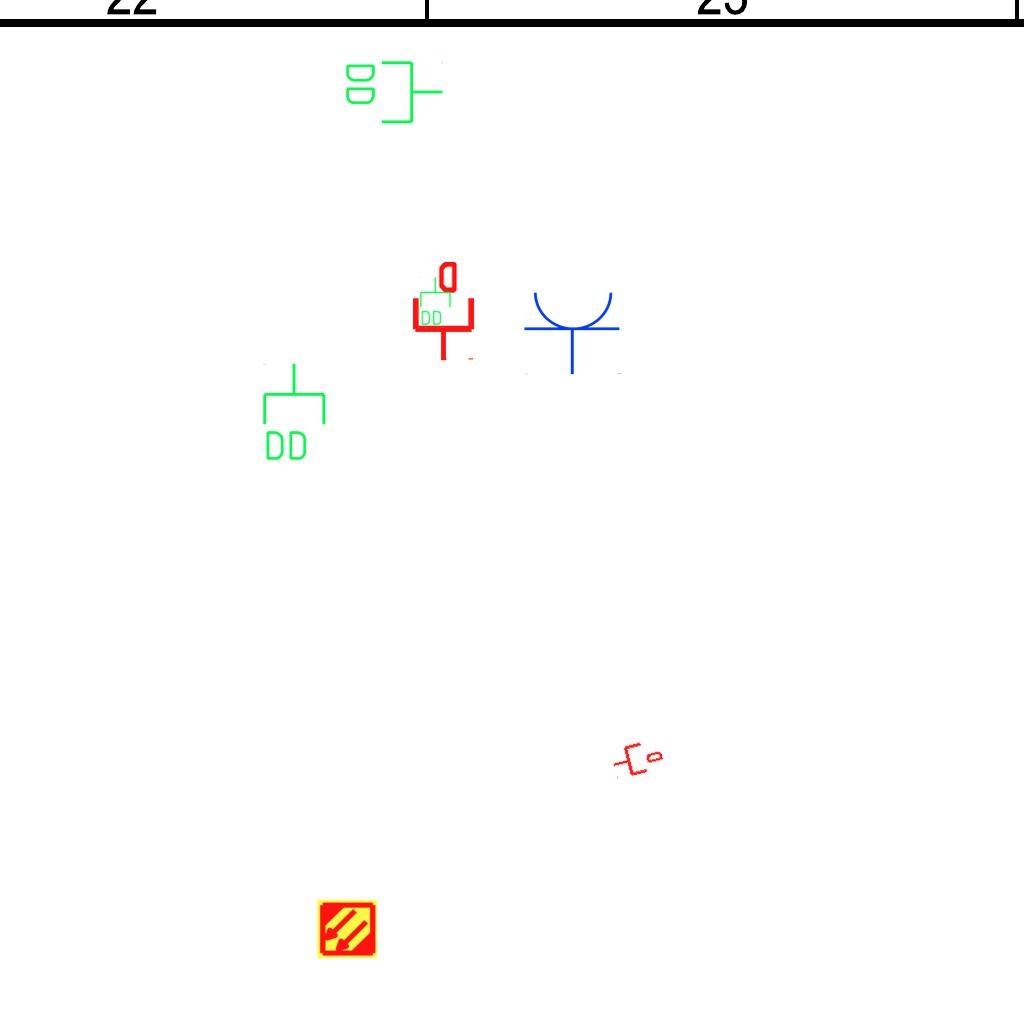ASR_Ansaugrauchmelder: (316, 898, 378, 960)
Datenanschluss_einfach: (409, 262, 478, 362), (608, 736, 666, 782)
Datenanschluss_zweifach: (259, 361, 328, 464), (342, 57, 445, 126), (418, 276, 452, 327)
Schukosteckdose_einfach: (523, 288, 623, 375)
